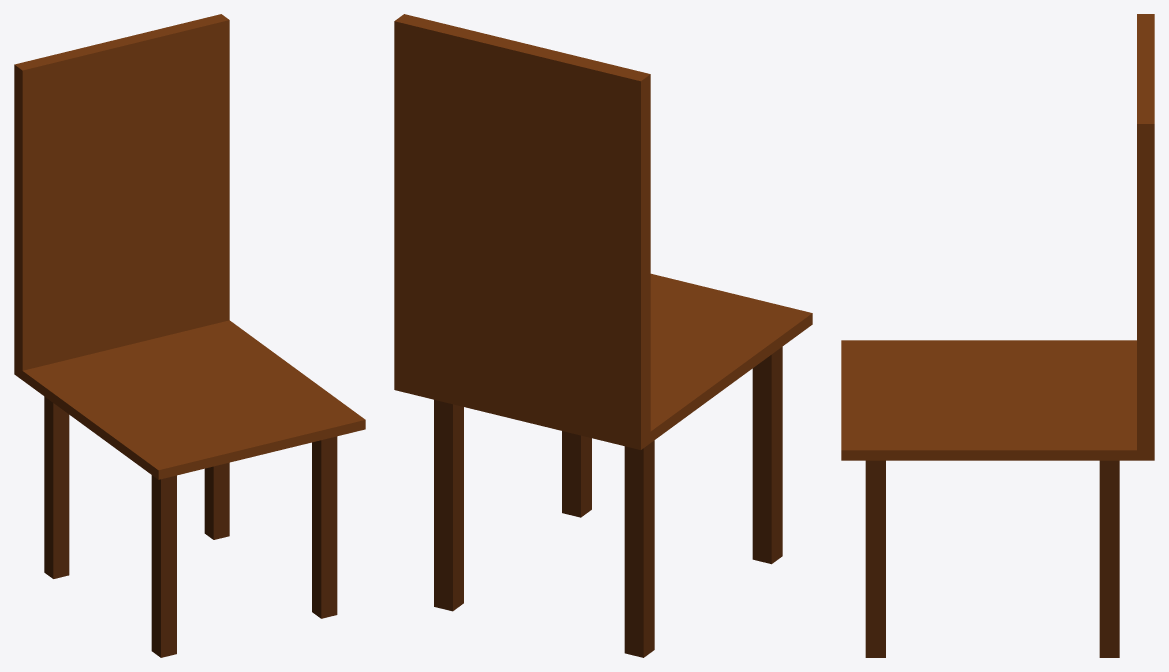
File: Chair.fbx
The picture shows the model from 3 angles, left to right: view 1: azimuth 30°, elevation 25°; view 2: azimuth 150°, elevation 25°; view 3: azimuth 270°, elevation 25°; orthographic projection. The views are drawn at different scales.
Visible parts, largest first — view 1: Cube.004, Cube, Cube.001, Cube.003, Cube.002; view 2: Cube.004, Cube.003, Cube, Cube.002, Cube.001; view 3: Cube.004, Cube.002, Cube.001.
Boxes of the visible parts, x1,y1,x2,y2 form: Cube.004: (14, 14, 365, 479); Cube: (151, 475, 176, 657); Cube.001: (312, 436, 337, 618); Cube.003: (44, 396, 69, 578); Cube.002: (204, 462, 229, 539); Cube.004: (394, 14, 812, 449); Cube.003: (624, 440, 654, 657); Cube: (752, 347, 782, 564); Cube.002: (434, 400, 463, 611); Cube.001: (562, 431, 591, 517); Cube.004: (841, 14, 1154, 460); Cube.002: (1099, 460, 1119, 657); Cube.001: (865, 460, 885, 657).
Bounding box in the file's own units: 260 × 598 × 313.
